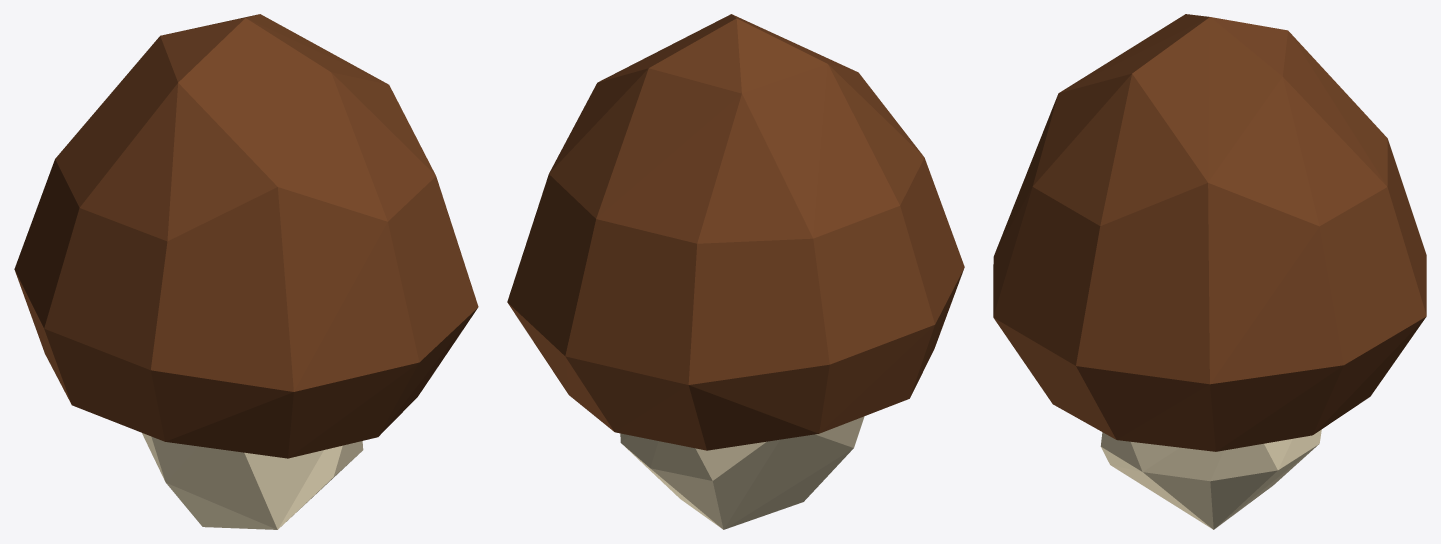
The model's file is mashroom_two.fbx.
3 views of the same model, side by side, from view 1: azimuth 30°, elevation 25°; view 2: azimuth 150°, elevation 25°; view 3: azimuth 270°, elevation 25° (orthographic). The views are drawn at different scales.
Parts seen in each view (by area): view 1: mashroom; view 2: mashroom; view 3: mashroom.
Part boxes in pixels (x1,y1,x2,y2): mashroom: [14, 14, 478, 529]; mashroom: [507, 14, 964, 529]; mashroom: [993, 14, 1426, 529].
Size of the model in its own units: 191 by 226 by 182.
